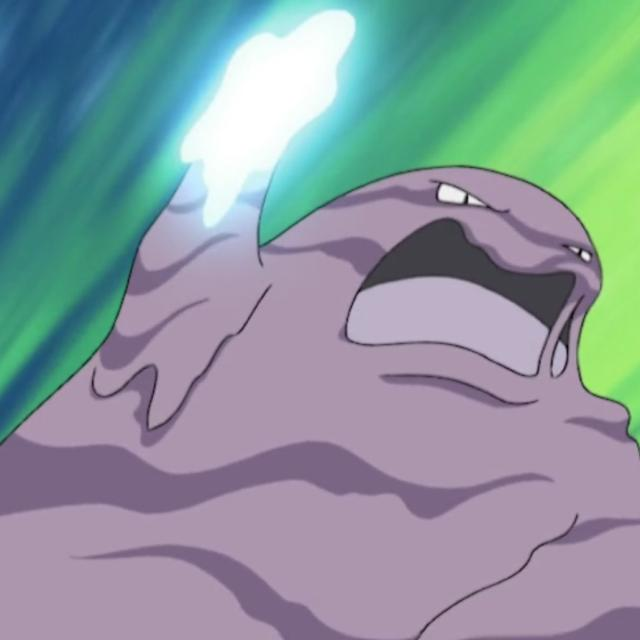Muk: (166, 171, 640, 640)
